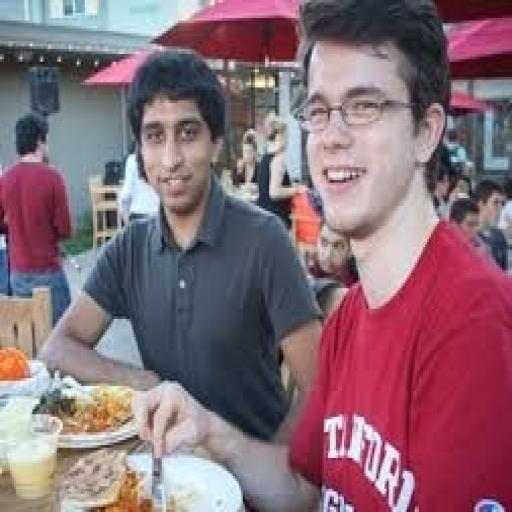eating: (6, 4, 461, 471)
